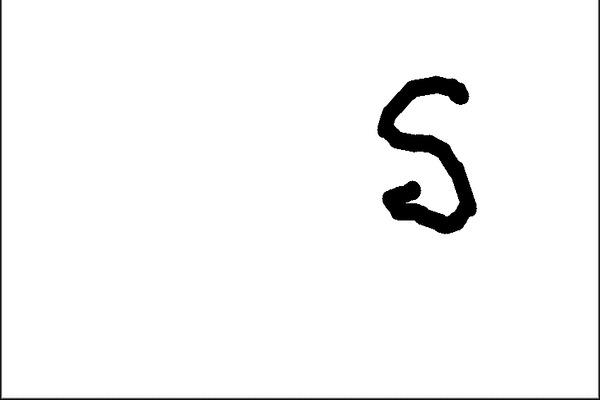S: (365, 65, 486, 247)
